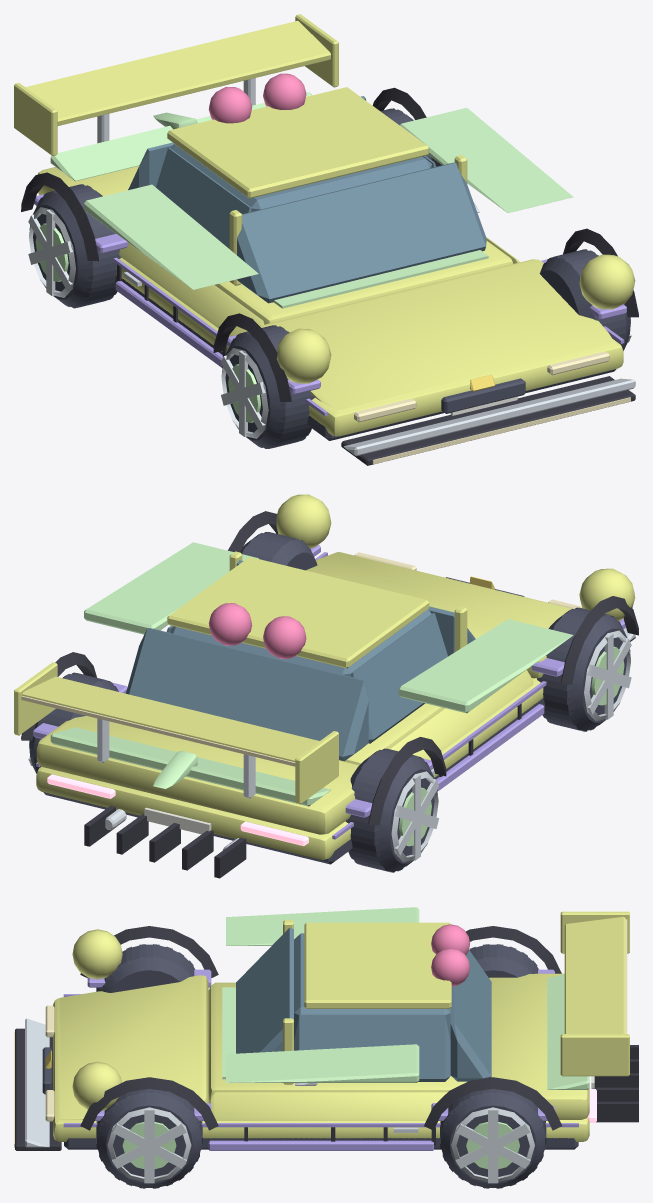
The model's file is goblin_glider.fbx.
3 renders of one model, top to bottom at view 1: azimuth 30°, elevation 25°; view 2: azimuth 150°, elevation 25°; view 3: azimuth 270°, elevation 25°, orthographic. The views are drawn at different scales.
Parts seen in each view (by area): view 1: Body, Glass, Accent2, Trim, Metal, Wheel_RR, Wheel_FR, Accent3, Accent, Light, Trim2, Wheel_FL (+2 smaller); view 2: Body, Glass, Accent2, Trim, Metal, Wheel_RR, Wheel_FR, Accent, Accent5, Wheel_FL, Light, Light2 (+4 smaller); view 3: Body, Glass, Accent2, Trim, Metal, Wheel_RL, Wheel_FL, Accent, Wheel_FR, Accent3, Accent5, Trim2 (+3 smaller).
Part boxes in pixels (<box>): Body: <box>14,14,635,436</box>; Glass: <box>128,96,486,303</box>; Accent2: <box>50,92,573,308</box>; Trim: <box>21,87,638,465</box>; Metal: <box>28,78,631,438</box>; Wheel_RR: <box>29,184,121,308</box>; Wheel_FR: <box>222,325,314,448</box>; Accent3: <box>343,203,635,456</box>; Accent: <box>34,194,626,415</box>; Light: <box>354,351,630,464</box>; Trim2: <box>115,274,616,440</box>; Wheel_FL: <box>539,249,630,350</box>; Body: <box>14,494,635,859</box>; Glass: <box>126,560,475,761</box>; Accent2: <box>50,542,573,806</box>; Trim: <box>21,511,638,878</box>; Metal: <box>28,544,631,862</box>; Wheel_RR: <box>345,748,437,872</box>; Wheel_FR: <box>537,607,630,731</box>; Accent: <box>33,545,625,839</box>; Accent5: <box>208,603,306,658</box>; Wheel_FL: <box>240,532,317,570</box>; Light: <box>21,552,581,766</box>; Light2: <box>47,774,308,845</box>; Body: <box>53,911,629,1141</box>; Glass: <box>236,927,491,1081</box>; Accent2: <box>222,907,589,1089</box>; Trim: <box>15,926,638,1150</box>; Metal: <box>107,1107,534,1183</box>; Wheel_RL: <box>440,1088,546,1188</box>; Wheel_FL: <box>96,1088,202,1188</box>; Accent: <box>63,969,578,1150</box>; Wheel_FR: <box>96,944,195,992</box>; Accent3: <box>25,1018,317,1147</box>; Accent5: <box>431,924,469,986</box>; Trim2: <box>42,1047,578,1149</box>.
Size of the model in its own units: 3.55 by 1.74 by 5.59.
